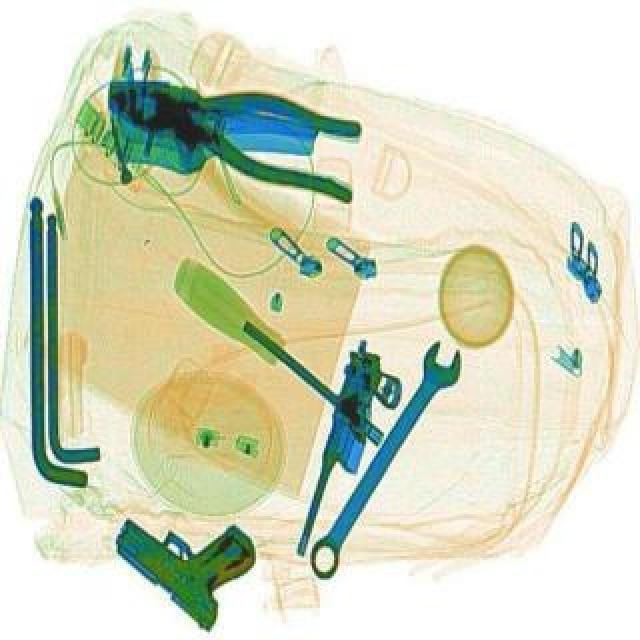gun: (100, 470, 278, 630), (296, 336, 412, 566)
scissors: (292, 336, 470, 580)
wrench: (90, 50, 374, 202)
